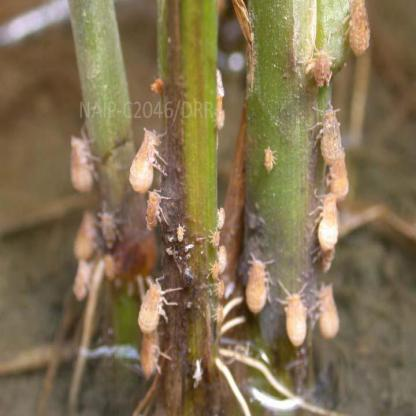brown-planthopper: (132, 133, 162, 196), (284, 293, 310, 346), (349, 2, 374, 57), (67, 137, 92, 188), (243, 261, 267, 313), (318, 192, 340, 248), (144, 281, 166, 335), (320, 110, 342, 162), (320, 286, 341, 338), (330, 148, 350, 200), (140, 332, 162, 378), (75, 214, 95, 260), (310, 51, 332, 87), (74, 261, 92, 300)
